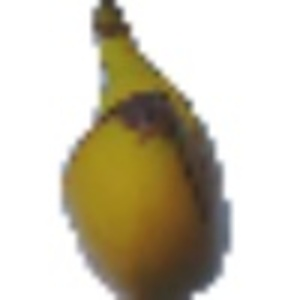banana: (55, 2, 239, 300)
